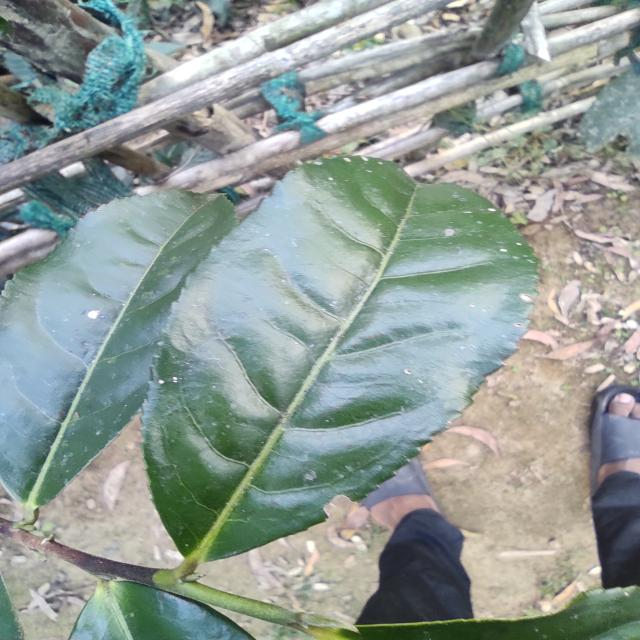Category D 7+ days, Not for Tea: (134, 137, 557, 571)
